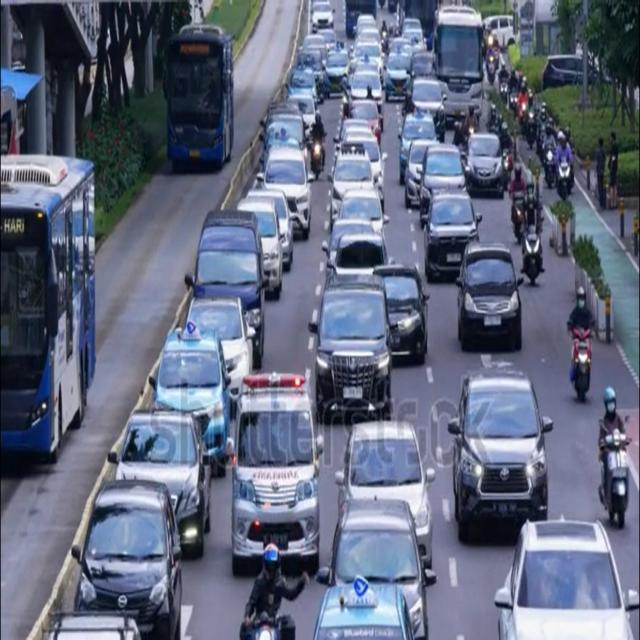Ambulance: (228, 354, 320, 569)
